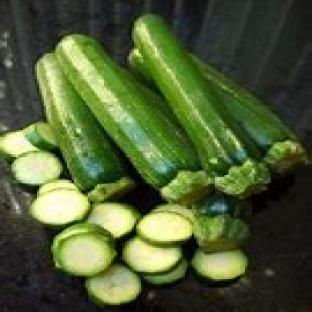Zucchini: (56, 35, 212, 202), (135, 14, 270, 195), (192, 56, 307, 173), (37, 53, 127, 195), (51, 226, 115, 275), (86, 264, 140, 305), (123, 236, 182, 273), (31, 189, 90, 225), (51, 222, 113, 254), (86, 203, 140, 239), (195, 215, 249, 251), (137, 212, 191, 246), (192, 250, 247, 282), (12, 151, 62, 185), (192, 193, 247, 216), (88, 177, 136, 202), (141, 259, 187, 284), (0, 130, 39, 157), (24, 122, 57, 149), (37, 179, 78, 195), (153, 205, 194, 221)
